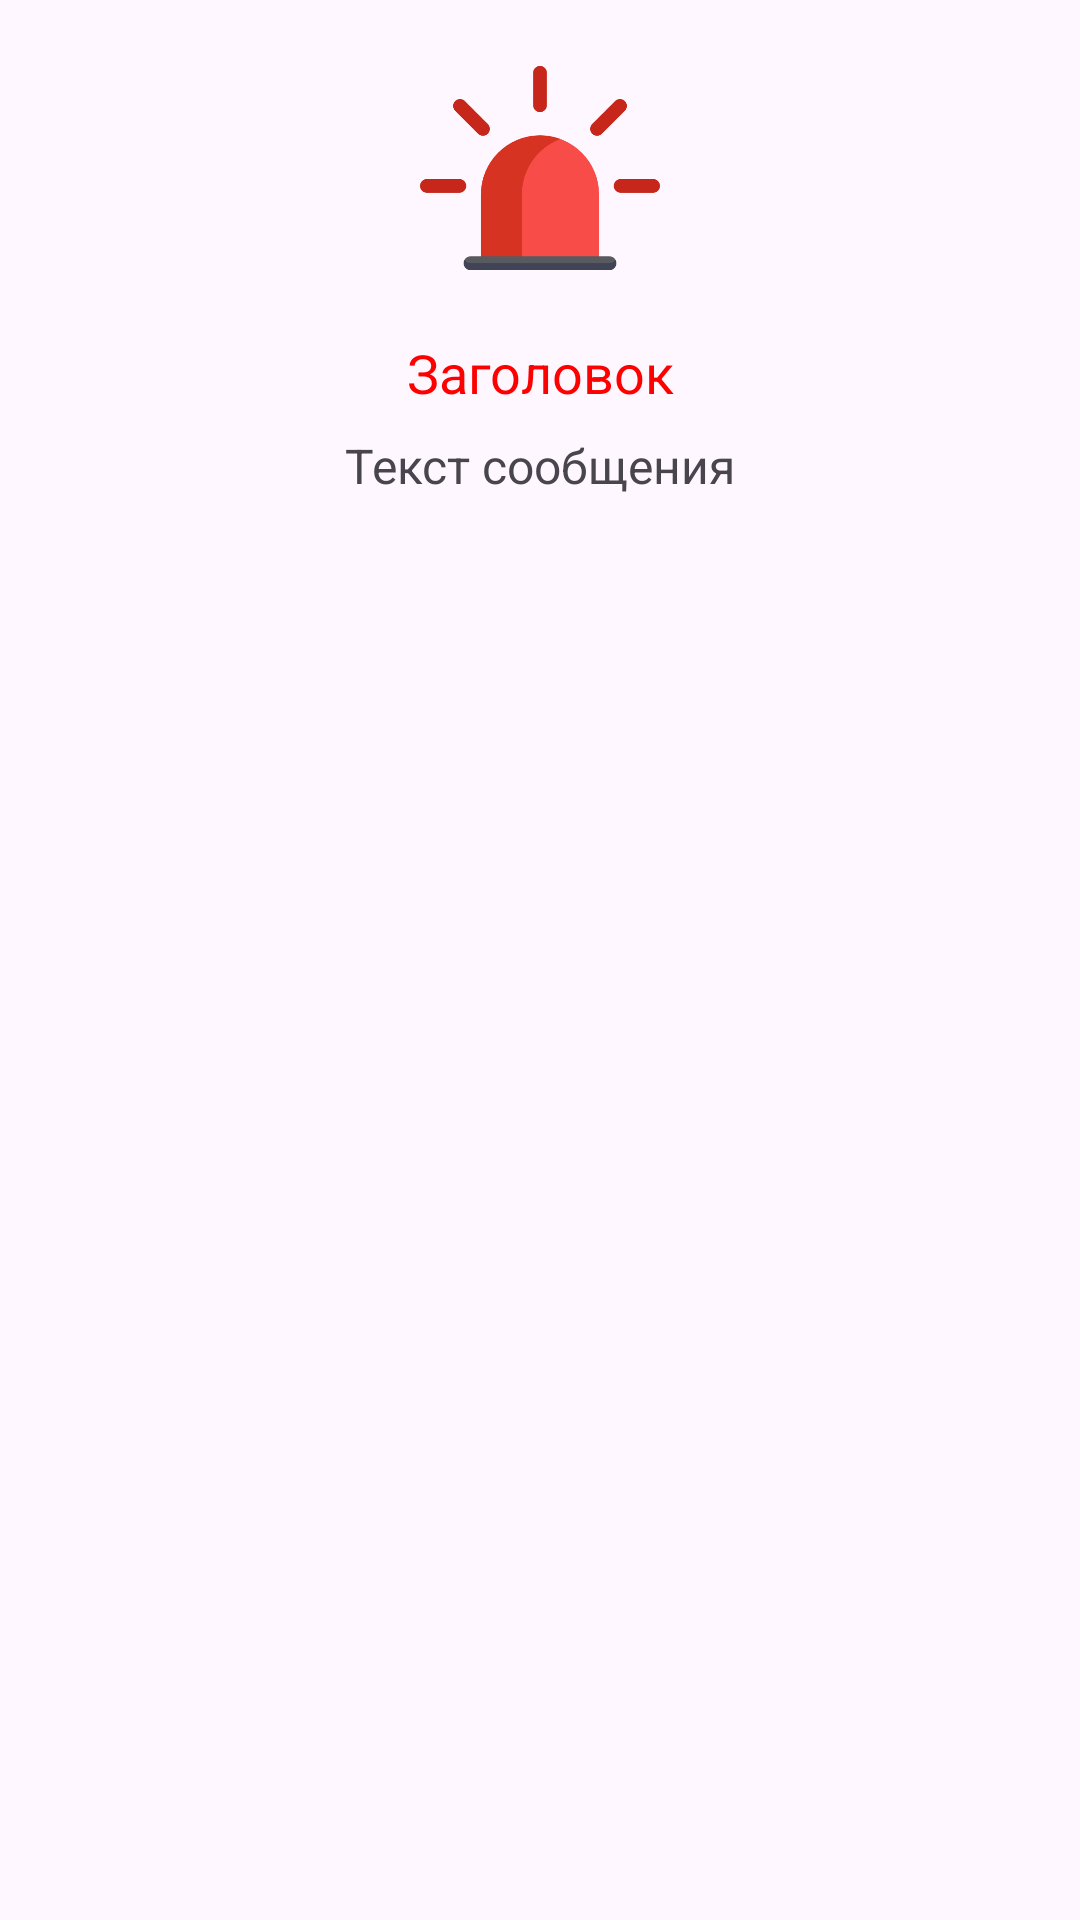

Named icons in this screenshot (1080*1920) and their bounding boxes, {"left": x1, "top": y1, "right": x2, "bottom": y2}:
alert: {"left": 420, "top": 66, "right": 660, "bottom": 270}
